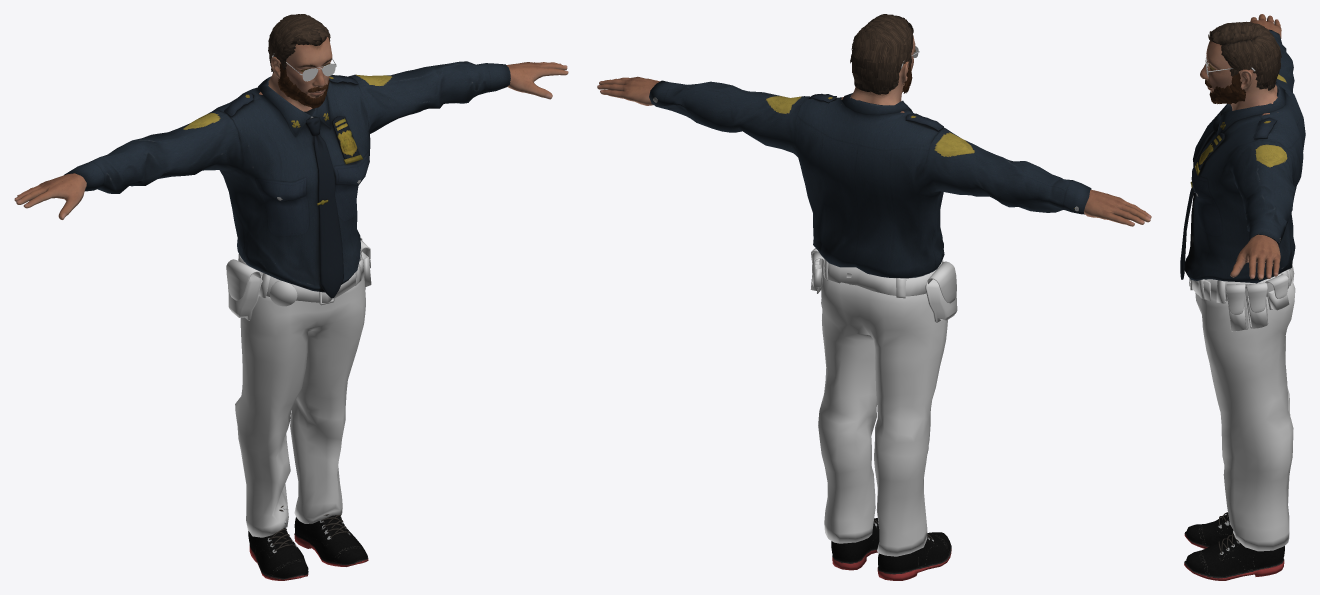
Rendered from Police.obj.
The picture shows the model from 3 angles, left to right: view 1: azimuth 30°, elevation 25°; view 2: azimuth 150°, elevation 25°; view 3: azimuth 270°, elevation 25°; orthographic projection.
Visible parts, largest first — view 1: Tops, Bottoms, Body, Shoes, Hair, Beards; view 2: Tops, Bottoms, Hair, Body, Shoes; view 3: Bottoms, Tops, Shoes, Body, Hair, Beards.
Boxes of the visible parts, x1=… form: Tops: x1=64, y1=61, x2=510, y2=298; Bottoms: x1=226, y1=237, x2=371, y2=537; Body: x1=14, y1=37, x2=568, y2=219; Shoes: x1=248, y1=505, x2=368, y2=580; Hair: x1=268, y1=14, x2=330, y2=72; Beards: x1=278, y1=63, x2=329, y2=108; Tops: x1=649, y1=80, x2=1091, y2=278; Bottoms: x1=810, y1=248, x2=957, y2=556; Hair: x1=850, y1=14, x2=913, y2=94; Body: x1=597, y1=34, x2=1151, y2=226; Shoes: x1=831, y1=518, x2=951, y2=580; Bottoms: x1=1189, y1=262, x2=1295, y2=551; Tops: x1=1180, y1=29, x2=1305, y2=283; Shoes: x1=1184, y1=512, x2=1284, y2=580; Body: x1=1200, y1=14, x2=1281, y2=279; Hair: x1=1208, y1=21, x2=1281, y2=90; Beards: x1=1209, y1=72, x2=1245, y2=104.
Bounding box in the file's own units: 194 × 182 × 38.68.
